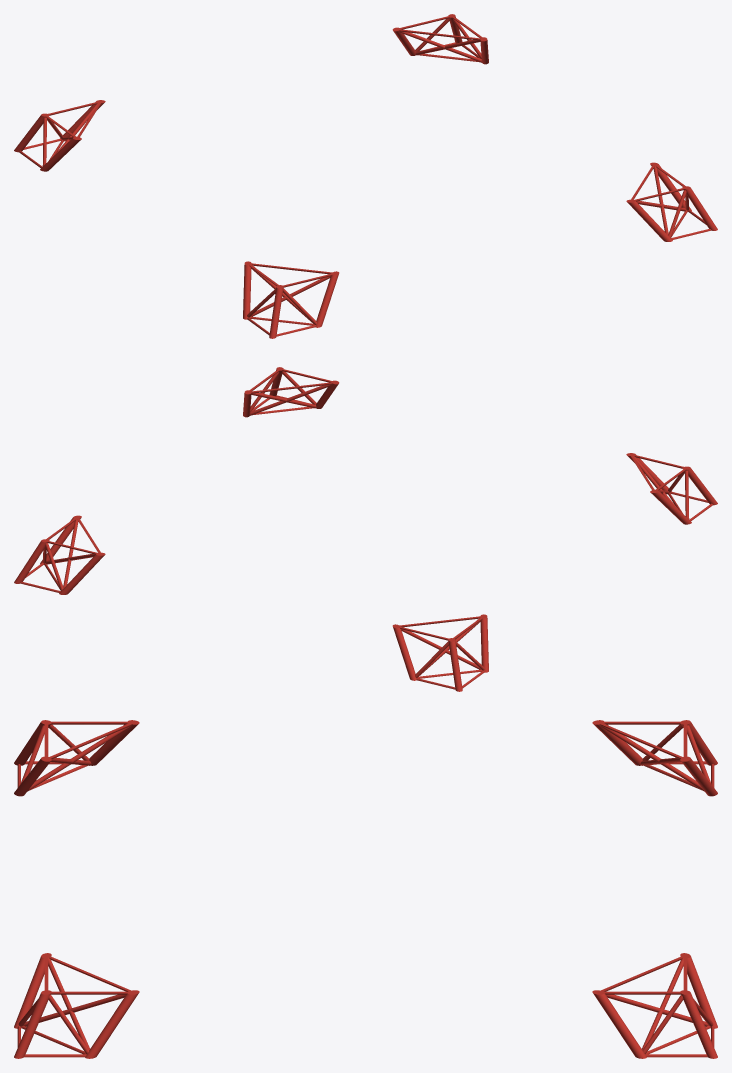
3 views of the same model, one above another, from view 1: azimuth 30°, elevation 25°; view 2: azimuth 150°, elevation 25°; view 3: azimuth 270°, elevation 25° (orthographic). The views are drawn at different scales.
Visible parts, largest first — view 1: H1c-H2; view 2: H1c-H2; view 3: H1c-H2.
Part boxes in pixels (bbox=[...]): H1c-H2: bbox=[14, 14, 717, 338]; H1c-H2: bbox=[14, 367, 717, 691]; H1c-H2: bbox=[14, 720, 717, 1058].
Bounding box in the file's own units: 72.7 × 6 × 72.7.
